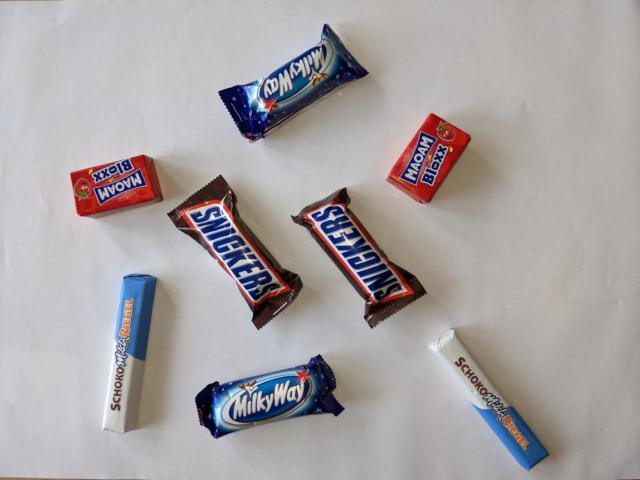MAOAM: (382, 110, 474, 207), (68, 153, 165, 220)
MilkyWay: (215, 21, 372, 146), (193, 353, 347, 442)
Schokoriegel: (423, 325, 551, 473), (97, 272, 159, 437)
Snickers: (164, 173, 305, 333), (287, 184, 430, 331)
